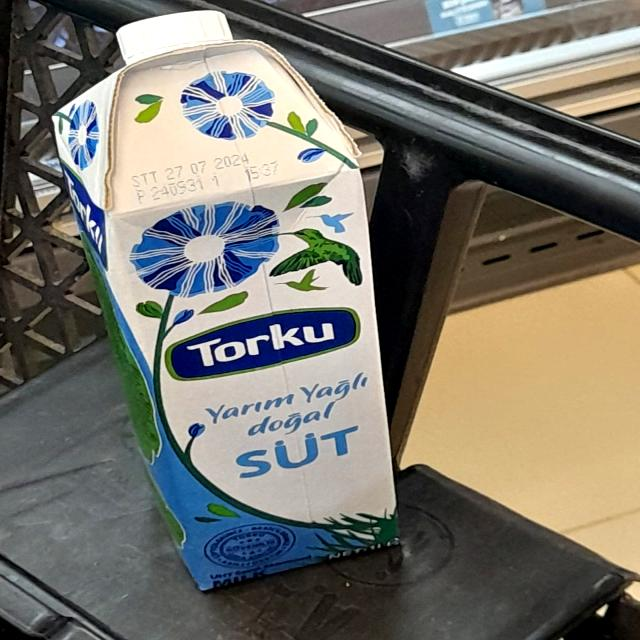milk: (67, 18, 412, 571)
